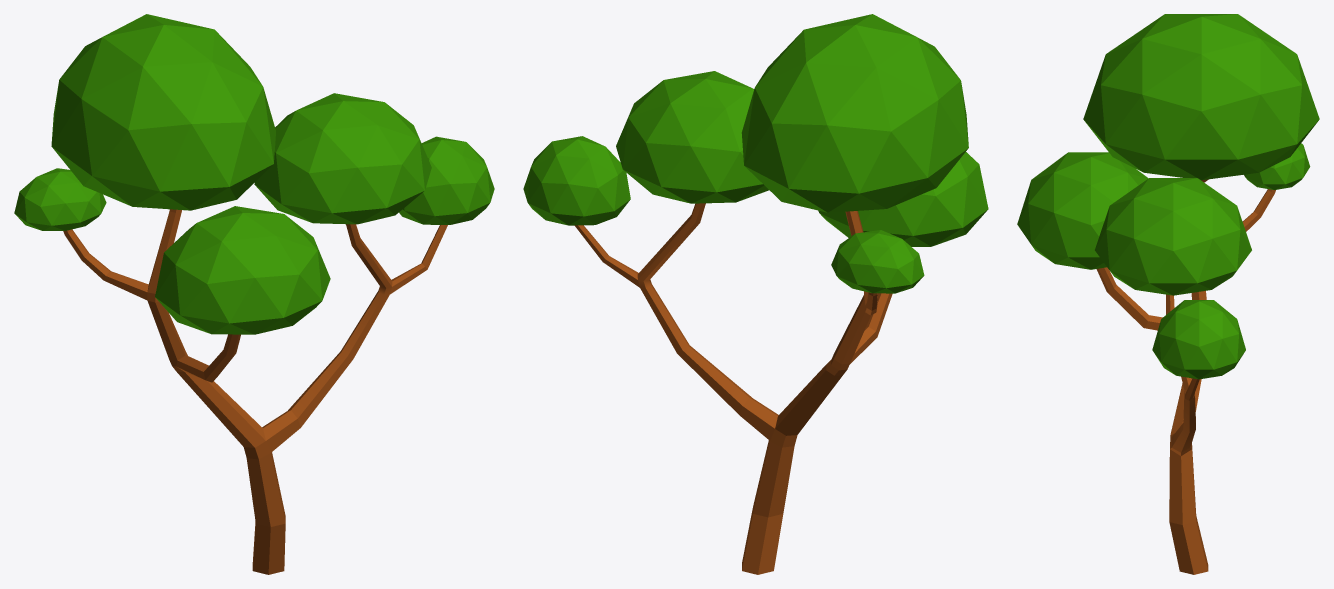
Rendered from ENV_FL_Tree_01.FBX.
3 renders of one model, left to right at view 1: azimuth 30°, elevation 25°; view 2: azimuth 150°, elevation 25°; view 3: azimuth 270°, elevation 25°, orthographic. The views are drawn at different scales.
Visible parts, largest first — view 1: ENV_FL_Tree_01; view 2: ENV_FL_Tree_01; view 3: ENV_FL_Tree_01.
Part boxes in pixels (box(x1,y1,x2,y2)): ENV_FL_Tree_01: box(14, 14, 494, 574); ENV_FL_Tree_01: box(523, 14, 988, 574); ENV_FL_Tree_01: box(1017, 14, 1319, 574).
Size of the model in its own units: 107 by 136 by 73.69.
